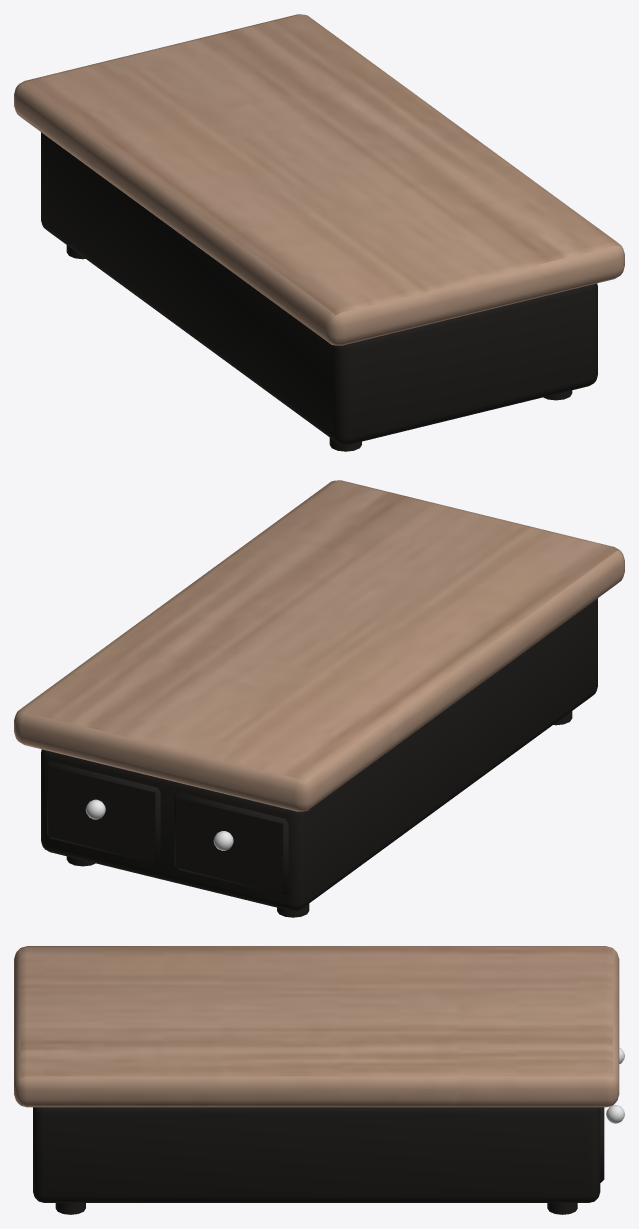
The model's file is recWe1k2xfpI5LsG7.glb.
The picture shows the model from 3 angles, top to bottom: view 1: azimuth 30°, elevation 25°; view 2: azimuth 150°, elevation 25°; view 3: azimuth 270°, elevation 25°; orthographic projection. The views are drawn at different scales.
Visible parts, largest first — view 1: coffret_bijoux_Corps; view 2: coffret_bijoux_Corps; view 3: coffret_bijoux_Corps.
Boxes of the visible parts, bbox=[...] form: coffret_bijoux_Corps: bbox=[14, 14, 624, 451]; coffret_bijoux_Corps: bbox=[14, 480, 624, 917]; coffret_bijoux_Corps: bbox=[14, 946, 624, 1214].
Bounding box in the file's own units: 0.17 × 0.088 × 0.323.
3 materials, 1 textured.
